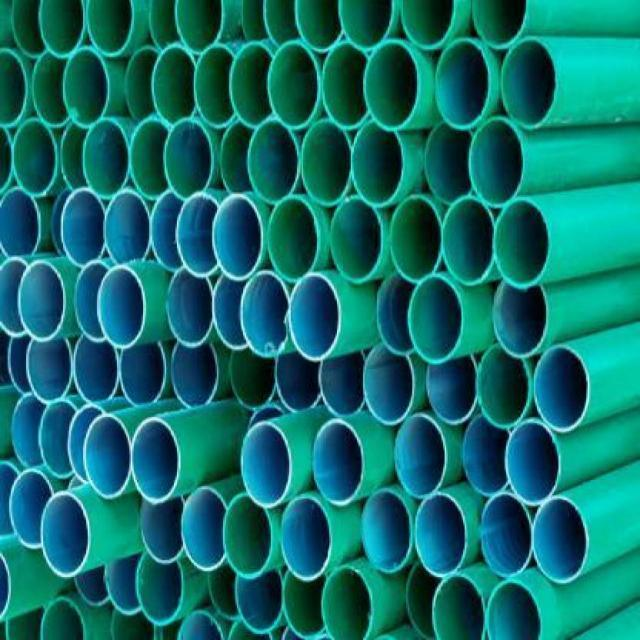pipe: (493, 197, 550, 290), (500, 39, 557, 132), (468, 117, 526, 208), (407, 275, 464, 365), (363, 40, 420, 130), (436, 38, 491, 131), (534, 345, 590, 433), (329, 195, 383, 286), (267, 39, 321, 130), (390, 194, 445, 283), (505, 420, 560, 507), (532, 498, 588, 583), (414, 492, 468, 580), (443, 195, 495, 286), (394, 413, 448, 500), (351, 121, 405, 207), (268, 194, 321, 281), (222, 492, 275, 579), (475, 345, 529, 430), (247, 119, 300, 205), (240, 421, 293, 506), (492, 281, 549, 360), (239, 271, 290, 359), (362, 343, 416, 426), (301, 118, 351, 207), (479, 495, 533, 577), (361, 490, 413, 575), (40, 491, 90, 579), (324, 40, 372, 131), (212, 194, 262, 281), (131, 417, 181, 504), (281, 495, 331, 582), (289, 275, 340, 360), (313, 421, 364, 506), (163, 117, 214, 200), (97, 266, 147, 349), (61, 46, 111, 128), (83, 415, 131, 500), (81, 118, 130, 200), (229, 41, 274, 129), (18, 262, 66, 344), (462, 415, 510, 497), (181, 487, 227, 572), (425, 123, 473, 204), (322, 565, 374, 639), (425, 354, 479, 425), (12, 117, 59, 198), (177, 191, 220, 278), (166, 268, 212, 349), (9, 469, 54, 551), (152, 44, 197, 126), (193, 44, 236, 129), (431, 574, 487, 639), (60, 188, 106, 267), (136, 553, 184, 626), (485, 580, 544, 639), (104, 189, 151, 263), (130, 116, 170, 201), (283, 568, 330, 638), (138, 496, 186, 564), (38, 398, 78, 479), (377, 271, 415, 356), (120, 342, 168, 409), (235, 570, 285, 633), (318, 352, 366, 417), (32, 51, 71, 130), (74, 335, 119, 403), (26, 338, 73, 403), (171, 343, 218, 408), (69, 405, 108, 483), (0, 188, 42, 259), (229, 348, 277, 410), (219, 120, 258, 196), (75, 258, 109, 343), (275, 353, 323, 413), (338, 0, 395, 50), (85, 0, 134, 58), (471, 0, 528, 49), (151, 190, 184, 272), (401, 0, 456, 49), (175, 0, 224, 55), (38, 0, 84, 58), (125, 46, 161, 120), (11, 392, 45, 469), (294, 0, 343, 52), (0, 256, 31, 338), (406, 563, 437, 640), (104, 553, 141, 616), (0, 46, 28, 127), (10, 0, 49, 57), (205, 569, 244, 622), (40, 596, 87, 639), (261, 0, 297, 48), (147, 0, 182, 49), (112, 606, 157, 640), (239, 0, 272, 44), (6, 604, 46, 640), (177, 612, 225, 640), (74, 572, 111, 606)
